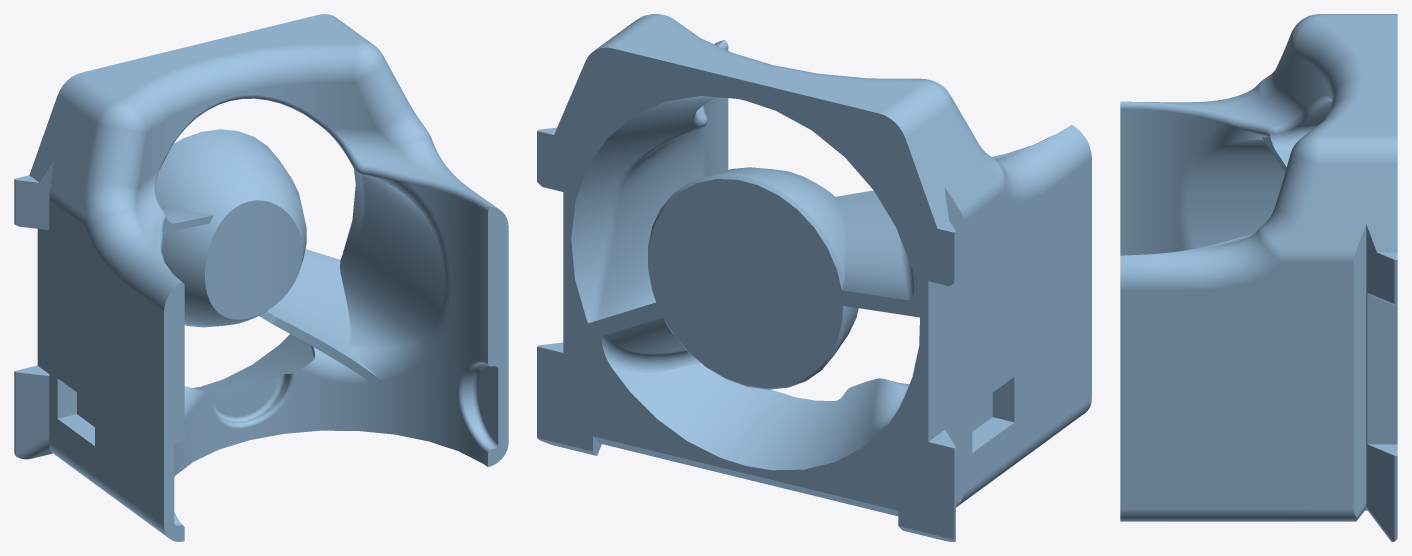
File: A4T HE Duct - Chube-Compact.gltf
The picture shows the model from 3 angles, left to right: view 1: azimuth 30°, elevation 25°; view 2: azimuth 150°, elevation 25°; view 3: azimuth 270°, elevation 25°; orthographic projection. The views are drawn at different scales.
Parts seen in each view (by area): view 1: A4T HE Duct - Teakettle; view 2: A4T HE Duct - Teakettle; view 3: A4T HE Duct - Teakettle.
Part boxes in pixels (x1,y1,x2,y2): A4T HE Duct - Teakettle: (14, 14, 508, 541); A4T HE Duct - Teakettle: (537, 14, 1091, 541); A4T HE Duct - Teakettle: (1120, 14, 1397, 541).
Bounding box in the file's own units: 0.0287 × 0.0273 × 0.0182.
